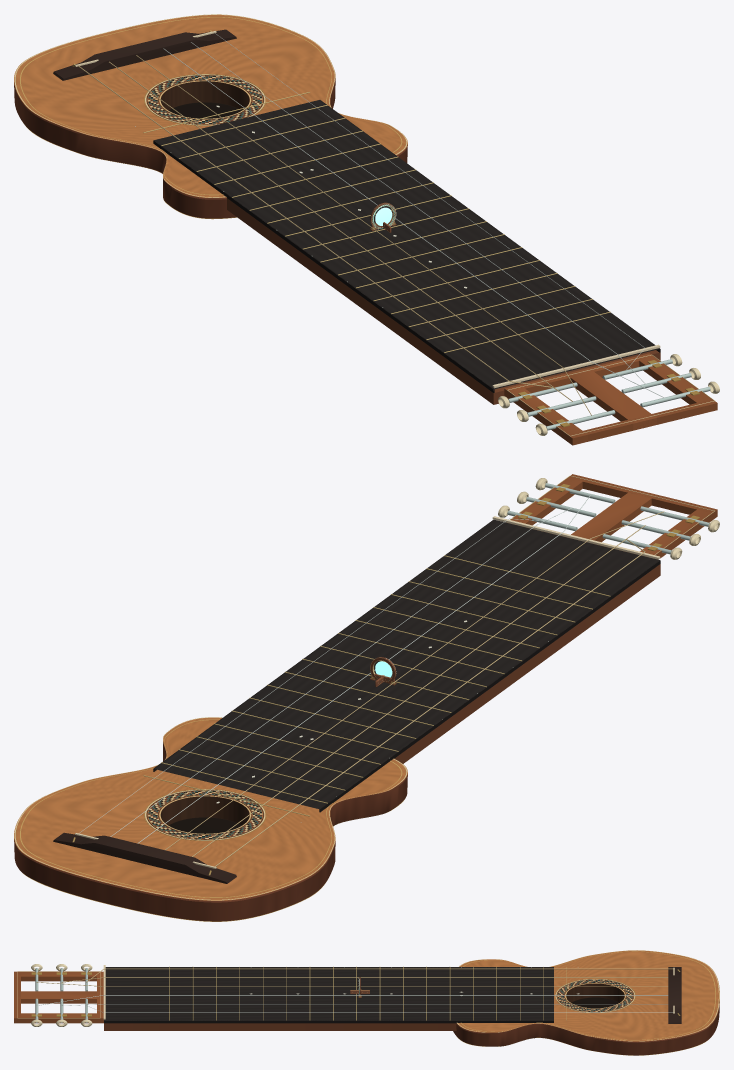
File: mundo-guitarra.glb
3 renders of one model, top to bottom at view 1: azimuth 30°, elevation 25°; view 2: azimuth 150°, elevation 25°; view 3: azimuth 270°, elevation 25°, orthographic. The views are drawn at different scales.
Parts seen in each view (by area): view 1: Diapasón y puente, Tapa de cedro, Aros y mástil, Trastes, bordes y bordones, Nácar y cenefas, Primas y mecánica, Cavidad acústica; view 2: Diapasón y puente, Tapa de cedro, Aros y mástil, Trastes, bordes y bordones, Nácar y cenefas, Primas y mecánica, Cavidad acústica; view 3: Diapasón y puente, Tapa de cedro, Aros y mástil, Trastes, bordes y bordones, Nácar y cenefas, Primas y mecánica, Cavidad acústica.
Part boxes in pixels (<box>): Diapasón y puente: <box>53,29,660,392</box>; Tapa de cedro: <box>14,14,407,197</box>; Aros y mástil: <box>14,75,717,445</box>; Trastes, bordes y bordones: <box>20,17,699,427</box>; Nácar y cenefas: <box>14,14,719,436</box>; Primas y mecánica: <box>163,33,710,430</box>; Cavidad acústica: <box>168,81,245,118</box>; Diapasón y puente: <box>53,519,660,883</box>; Tapa de cedro: <box>14,717,407,900</box>; Aros y mástil: <box>14,474,717,921</box>; Trastes, bordes y bordones: <box>20,484,699,897</box>; Nácar y cenefas: <box>14,475,719,921</box>; Primas y mecánica: <box>79,483,709,843</box>; Cavidad acústica: <box>168,796,246,833</box>; Diapasón y puente: <box>104,967,681,1023</box>; Tapa de cedro: <box>457,950,719,1041</box>; Aros y mástil: <box>14,971,719,1055</box>; Trastes, bordes y bordones: <box>31,951,715,1040</box>; Nácar y cenefas: <box>17,950,719,1055</box>; Primas y mecánica: <box>35,968,672,1022</box>; Cavidad acústica: <box>571,988,619,1008</box>.
Size of the model in its own units: 62.53 by 10.36 by 204.
